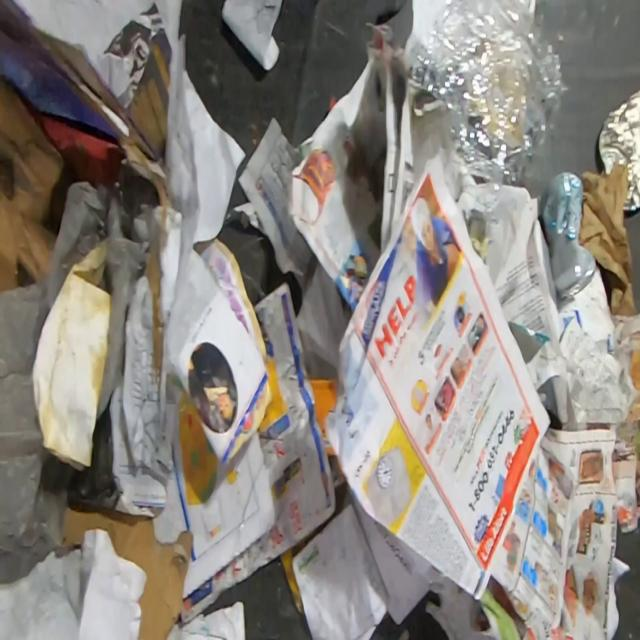cardboard: (30, 28, 173, 185), (121, 172, 184, 489), (62, 502, 192, 640), (0, 74, 79, 289), (578, 163, 638, 317)
metal: (538, 169, 597, 301), (597, 86, 640, 213)
soft_plastic: (0, 161, 170, 586), (408, 0, 572, 211), (66, 406, 121, 510)
